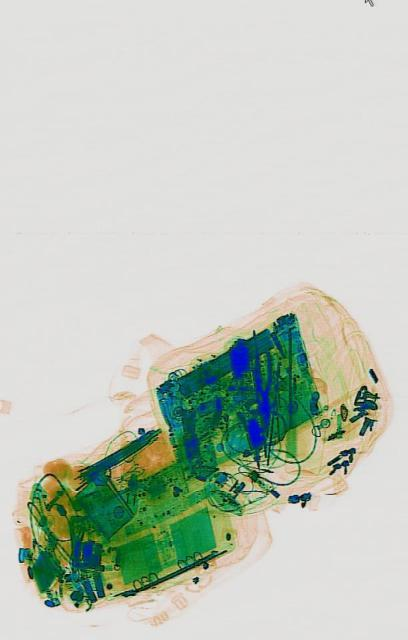Pliers: (252, 353, 273, 439)
